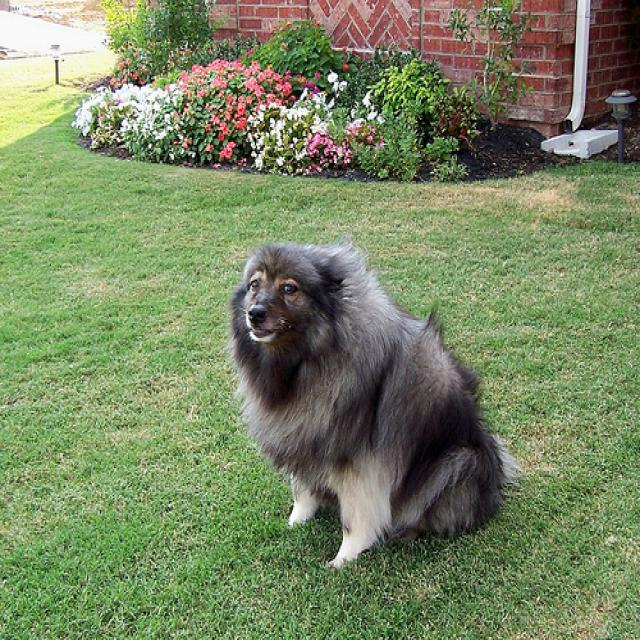dog-keeshond: (215, 229, 526, 576)
